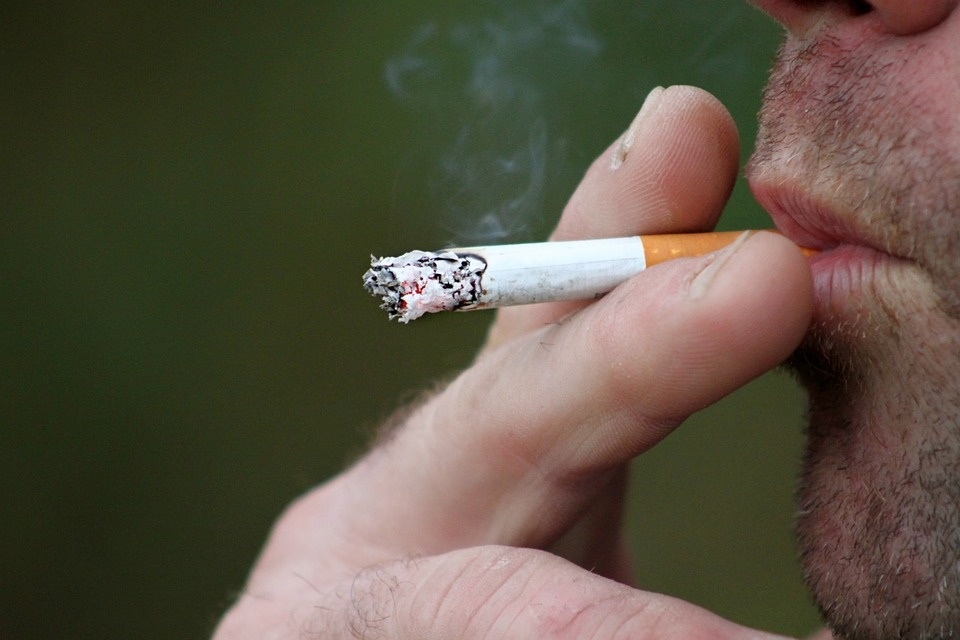sigaretta: (339, 207, 831, 323)
